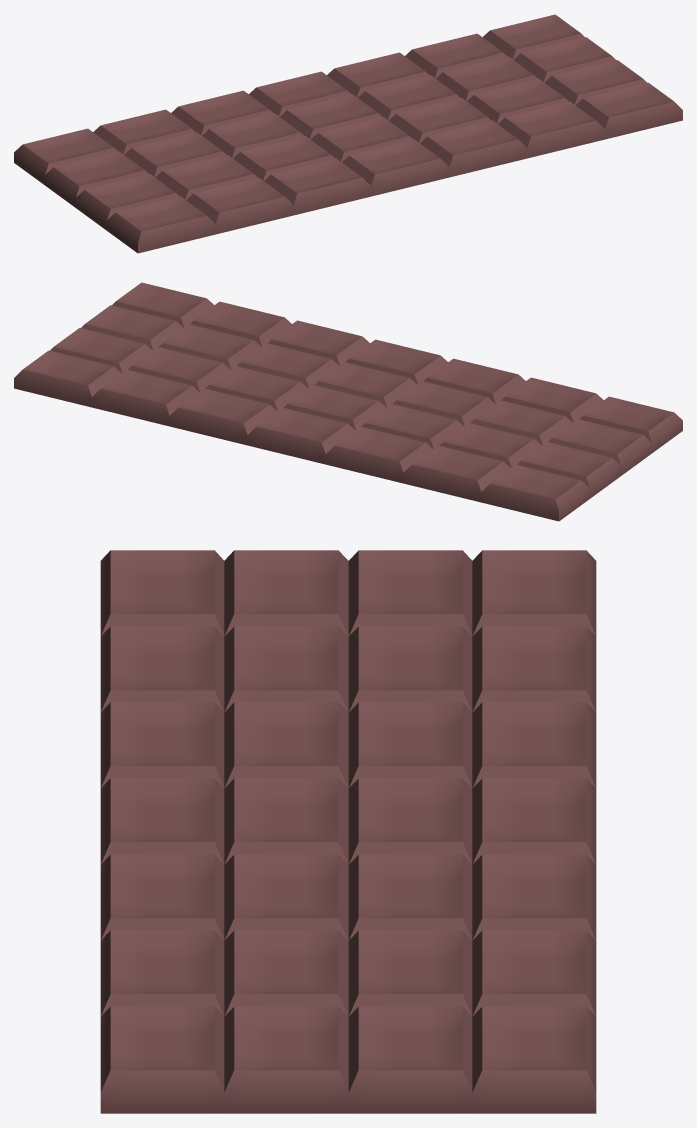
The model's file is チョコレート.fbx.
3 renders of one model, top to bottom at view 1: azimuth 30°, elevation 25°; view 2: azimuth 150°, elevation 25°; view 3: azimuth 270°, elevation 25°, orthographic. The views are drawn at different scales.
Visible parts, largest first — view 1: group13_pasted__pasted__pCube5; view 2: group13_pasted__pasted__pCube5; view 3: group13_pasted__pasted__pCube5.
Boxes of the visible parts, x1,y1,x2,y2 form: group13_pasted__pasted__pCube5: (14, 14, 682, 253); group13_pasted__pasted__pCube5: (14, 282, 682, 521); group13_pasted__pasted__pCube5: (100, 550, 596, 1113).
Bounding box in the file's own units: 12.62 × 0.4135 × 4.97.
